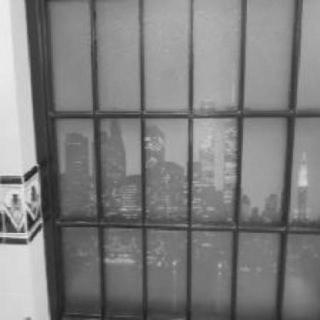other: (147, 131, 317, 228)
